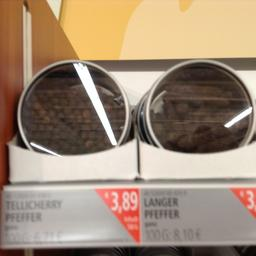spices: (16, 58, 130, 153), (142, 57, 252, 152)
